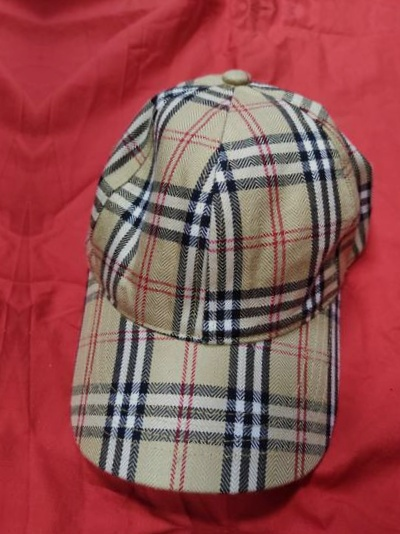Hat: (29, 31, 400, 520), (0, 0, 17, 486)
